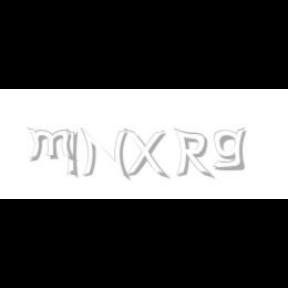N: (79, 128, 128, 180)
R: (174, 128, 212, 180)
X: (123, 128, 167, 180)
g: (214, 128, 251, 171)
l: (66, 128, 82, 180)
m: (26, 128, 78, 162)
